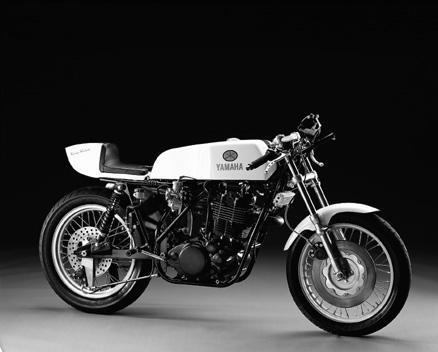motorcycle: (26, 111, 424, 347)
